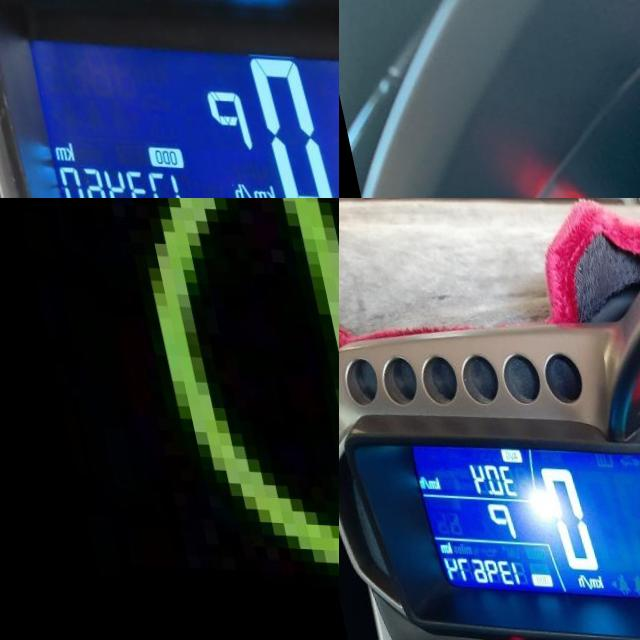FrontFogLight: (120, 198, 339, 584)
